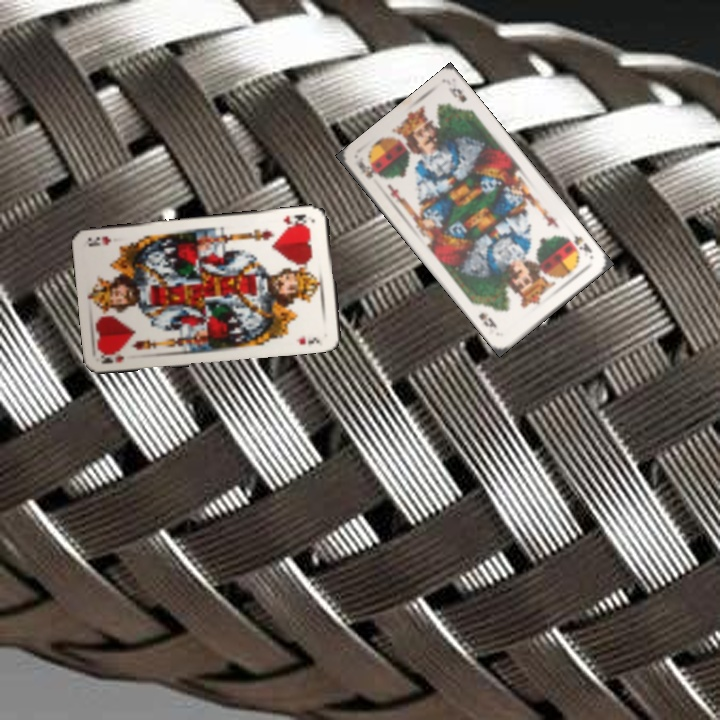HK: (279, 210, 309, 230), (98, 349, 126, 366)
SK: (562, 231, 596, 261), (353, 157, 379, 181)
